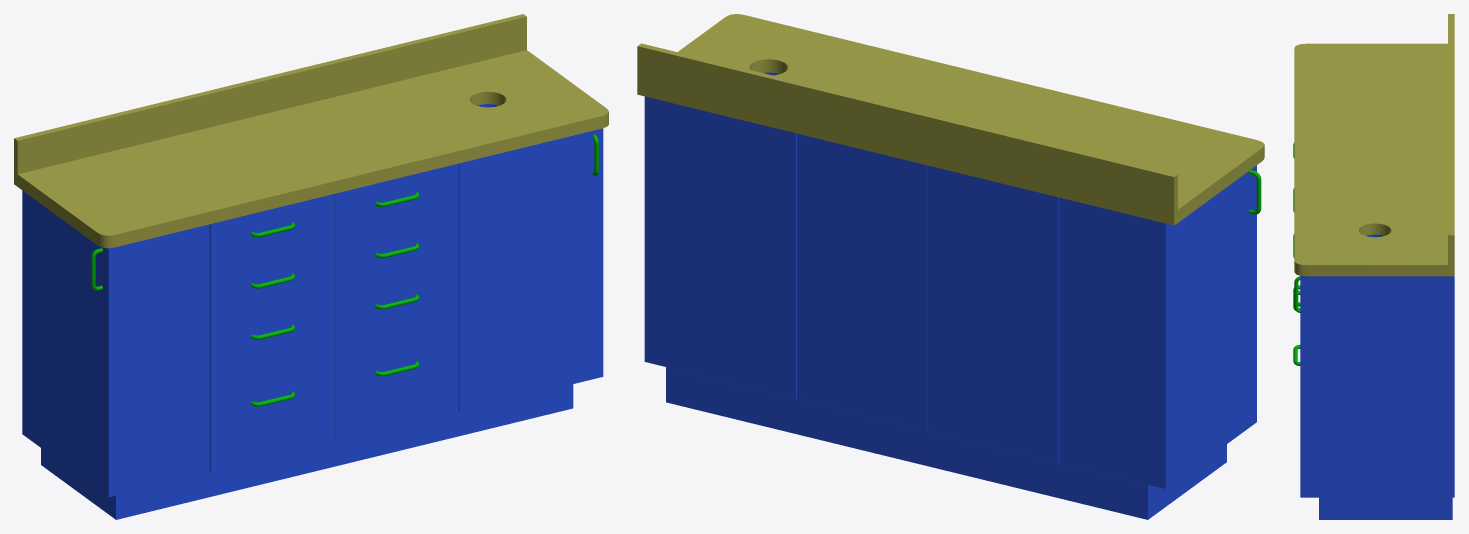
File: Cabinet 5.FBX
The picture shows the model from 3 angles, left to right: view 1: azimuth 30°, elevation 25°; view 2: azimuth 150°, elevation 25°; view 3: azimuth 270°, elevation 25°; orthographic projection. The views are drawn at different scales.
Parts seen in each view (by area): view 1: Object016, Box182, Object023; view 2: Object016, Box182; view 3: Box182, Object016, Object023.
Part boxes in pixels (x1,y1,x2,y2): Object016: [22, 104, 603, 519]; Box182: [14, 14, 608, 248]; Object023: [91, 134, 598, 406]; Object016: [644, 72, 1256, 519]; Box182: [637, 14, 1264, 225]; Box182: [1294, 14, 1454, 276]; Object016: [1300, 234, 1454, 519]; Object023: [1293, 142, 1300, 365].
Bounding box in the file's own units: 10.66 × 6.62 × 3.26.
